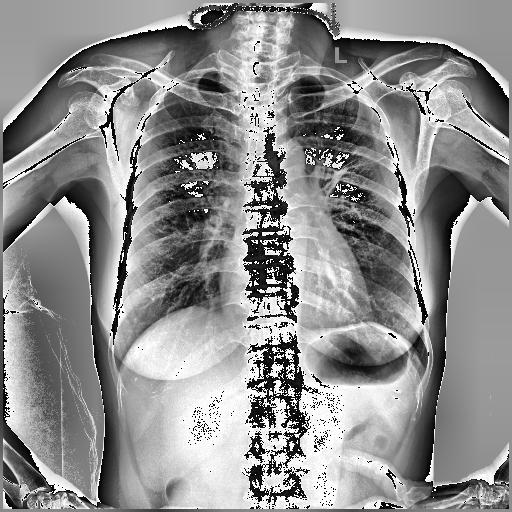13- Pulmonary fibrosis: (315, 137, 390, 205), (318, 154, 388, 202), (324, 144, 386, 194)
